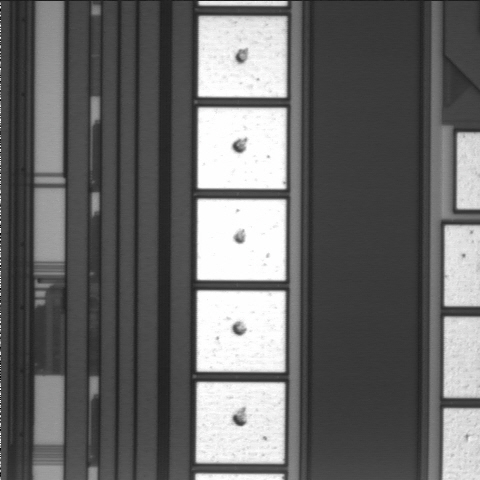pad: (198, 16, 287, 98), (197, 107, 286, 189), (197, 199, 286, 281), (197, 290, 286, 372), (196, 382, 285, 464)
